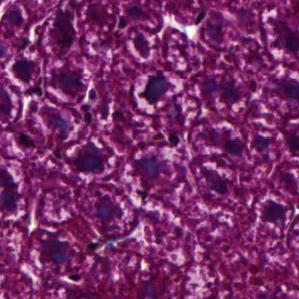inflammation: (132, 65, 185, 116), (63, 137, 117, 179), (194, 161, 231, 200)
